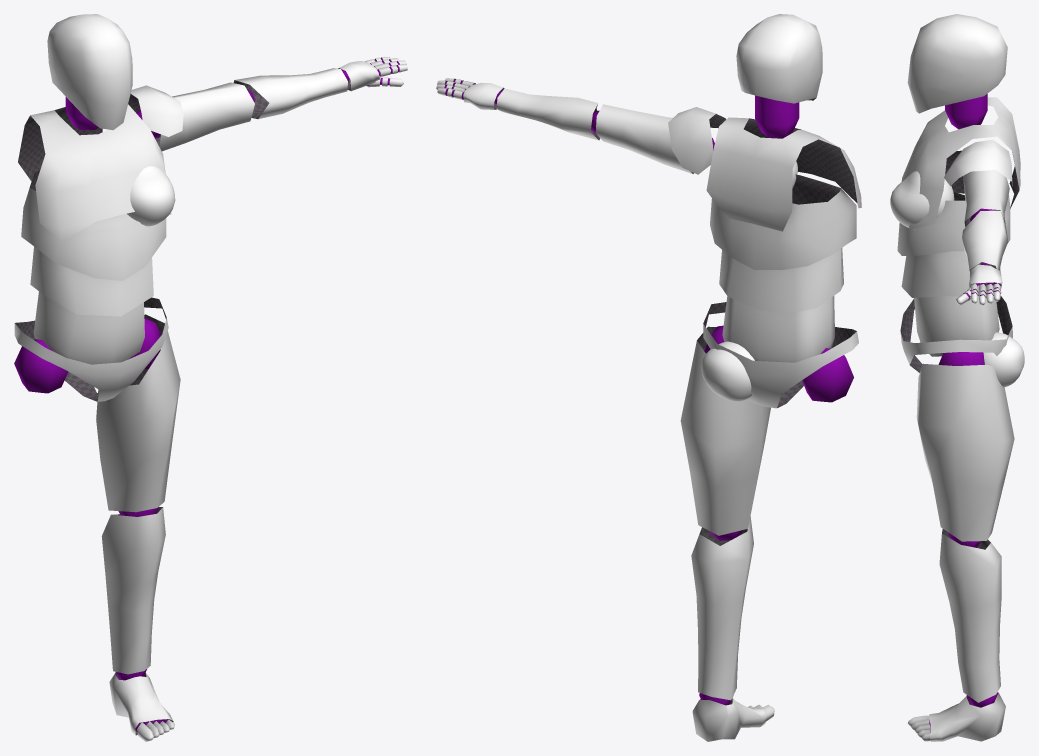
File: body.glb
The picture shows the model from 3 angles, left to right: view 1: azimuth 30°, elevation 25°; view 2: azimuth 150°, elevation 25°; view 3: azimuth 270°, elevation 25°; orthographic projection. The views are drawn at different scales.
Visible parts, largest first — view 1: upper_chest, upper_leg, lower_leg, head, lower_chest, hip, lower_waist, upper_waist, upper_arm, lower_arm, foot, bust (+2 smaller); view 2: upper_leg, upper_chest, lower_chest, lower_leg, head, hip, lower_waist, upper_waist, upper_arm, lower_arm, shoulder, foot (+3 smaller); view 3: upper_leg, lower_leg, head, upper_chest, lower_waist, lower_chest, upper_waist, hip, foot, lower_arm, upper_arm, shoulder (+4 smaller).
Part boxes in pixels (<box>): upper_chest: <box>18,104,171,241</box>; upper_leg: <box>96,314,180,516</box>; lower_leg: <box>101,507,165,680</box>; head: <box>47,14,132,130</box>; lower_chest: <box>21,170,166,280</box>; hip: <box>14,297,168,401</box>; lower_waist: <box>33,291,144,364</box>; upper_waist: <box>30,246,153,316</box>; upper_arm: <box>136,82,254,151</box>; lower_arm: <box>233,68,349,119</box>; foot: <box>109,672,173,735</box>; bust: <box>127,166,175,226</box>; upper_leg: <box>680,326,770,540</box>; upper_chest: <box>706,117,861,231</box>; lower_chest: <box>710,174,856,269</box>; lower_leg: <box>691,516,753,705</box>; head: <box>736,14,822,103</box>; hip: <box>703,302,858,408</box>; lower_waist: <box>722,296,834,362</box>; upper_waist: <box>719,248,843,312</box>; upper_arm: <box>591,104,714,173</box>; lower_arm: <box>494,88,599,140</box>; shoulder: <box>668,107,726,174</box>; foot: <box>692,698,766,741</box>; upper_leg: <box>916,363,1014,547</box>; lower_leg: <box>939,529,1001,707</box>; head: <box>907,14,1007,113</box>; upper_chest: <box>901,97,1020,229</box>; lower_waist: <box>914,296,999,356</box>; lower_chest: <box>897,150,1010,255</box>; upper_waist: <box>901,192,1001,297</box>; hip: <box>900,296,1012,372</box>; foot: <box>929,692,1005,741</box>; lower_arm: <box>962,210,1008,270</box>; upper_arm: <box>963,170,1009,227</box>; shoulder: <box>944,139,1012,188</box>.
Bounding box in the file's own units: 1.02 × 1.74 × 0.306.
2 materials, 2 textured.
